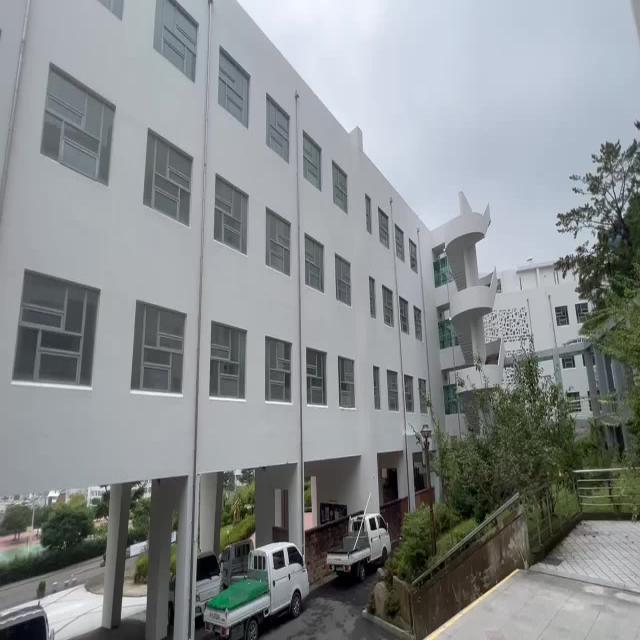building: (17, 17, 392, 447)
